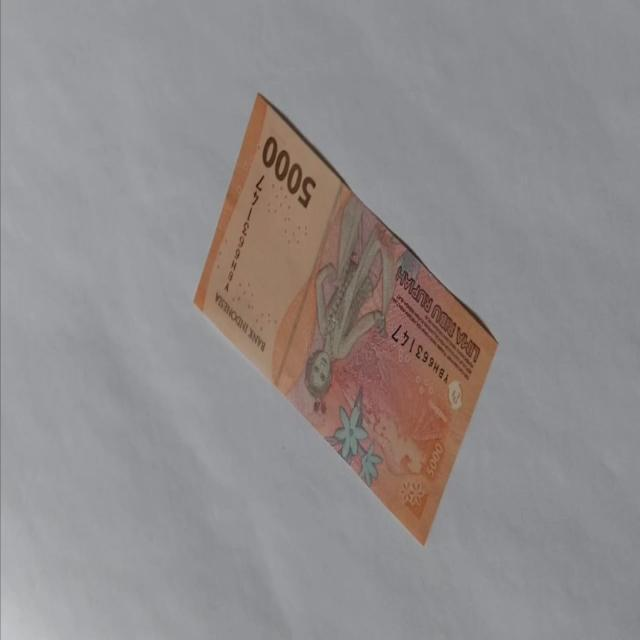lima ribu rupiah: (192, 90, 500, 546)
